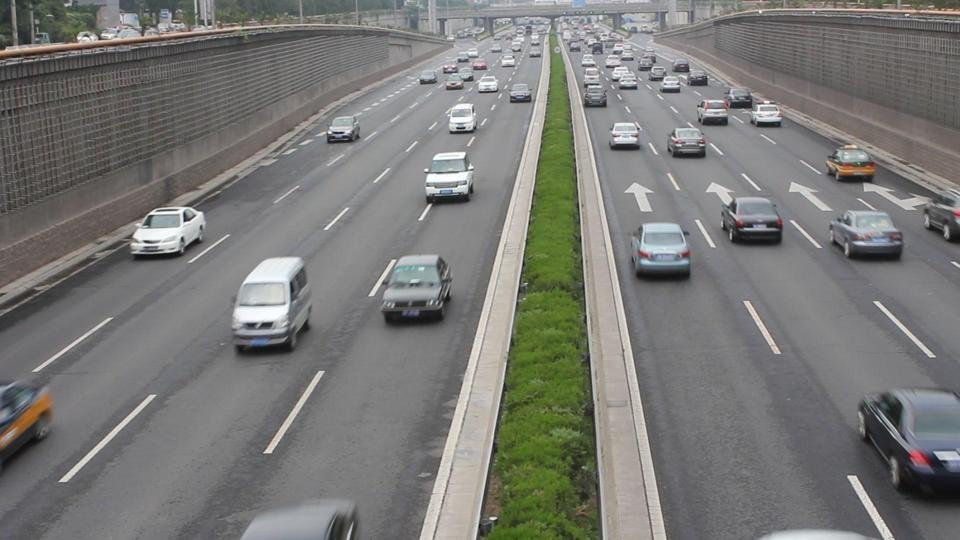car: (855, 388, 960, 497), (230, 256, 314, 354), (380, 255, 456, 325), (0, 377, 56, 468), (239, 497, 361, 538), (129, 205, 207, 259), (828, 208, 904, 260), (630, 222, 693, 280), (720, 196, 784, 243), (424, 151, 477, 203), (921, 190, 960, 242), (825, 146, 877, 181), (667, 124, 707, 158), (327, 115, 361, 144), (447, 103, 478, 134), (609, 122, 642, 150), (696, 98, 730, 125), (583, 83, 608, 108), (508, 82, 533, 103), (616, 71, 639, 90), (659, 78, 683, 95), (477, 76, 499, 93), (419, 69, 437, 85)
